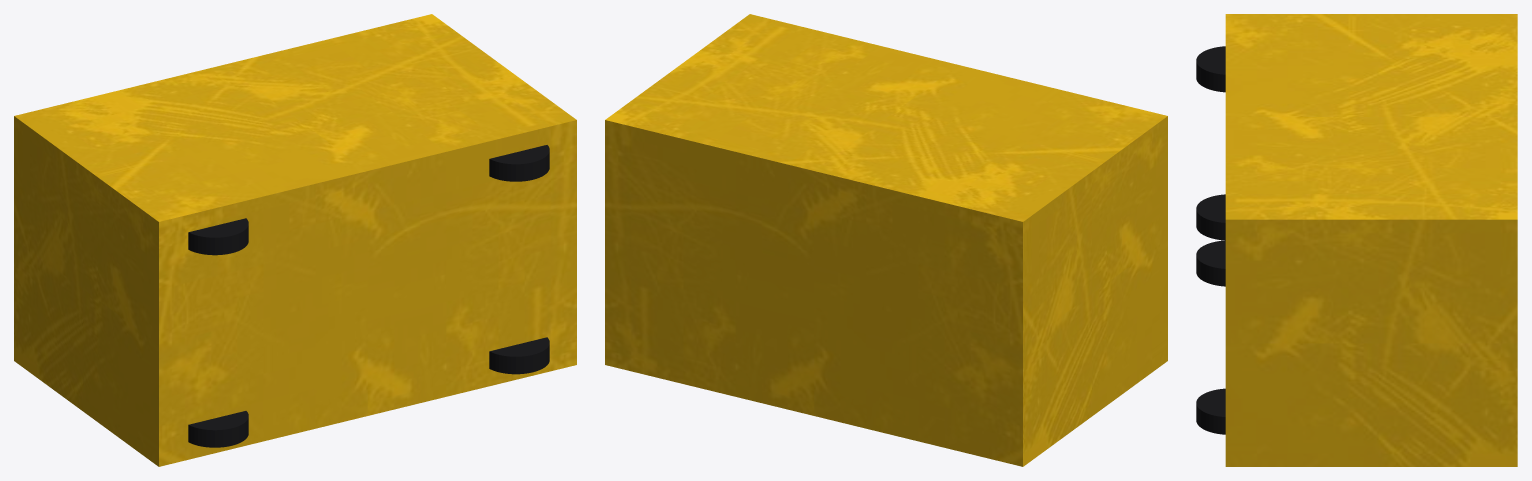
File: crane_trolley.glb
The picture shows the model from 3 angles, left to right: view 1: azimuth 30°, elevation 25°; view 2: azimuth 150°, elevation 25°; view 3: azimuth 270°, elevation 25°; orthographic projection.
Visible parts, largest first — view 1: crane_trolley; view 2: crane_trolley; view 3: crane_trolley.
Part boxes in pixels (x1,y1,x2,y2): crane_trolley: [14, 14, 576, 466]; crane_trolley: [605, 14, 1167, 466]; crane_trolley: [1196, 14, 1517, 466].
Size of the model in its own units: 0.5 by 0.28 by 0.33.
3 materials, 2 textured.
